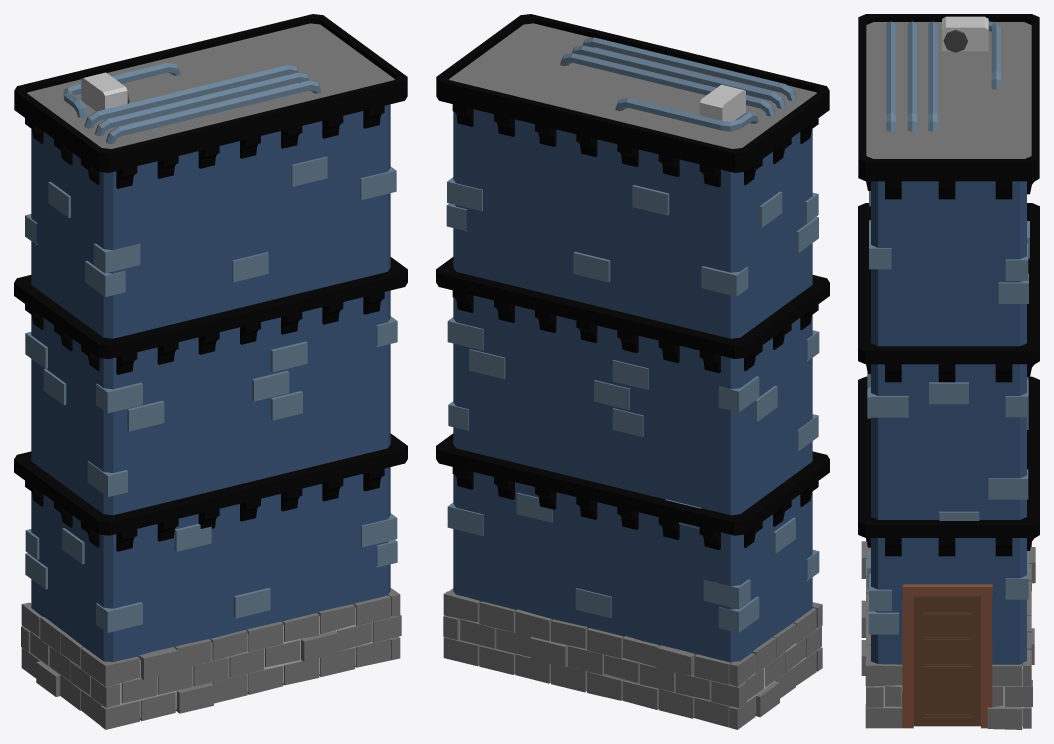
File: Building5_Env.fbx
3 renders of one model, left to right at view 1: azimuth 30°, elevation 25°; view 2: azimuth 150°, elevation 25°; view 3: azimuth 270°, elevation 25°, orthographic.
Visible parts, largest first — view 1: 3Story_Slim_Mat.001; view 2: 3Story_Slim_Mat.001; view 3: 3Story_Slim_Mat.001.
Boxes of the visible parts, x1,y1,x2,y2 form: 3Story_Slim_Mat.001: (14,14,407,729); 3Story_Slim_Mat.001: (436,14,829,729); 3Story_Slim_Mat.001: (858,14,1039,729).
Bounding box in the file's own units: 215 × 399 × 112.
